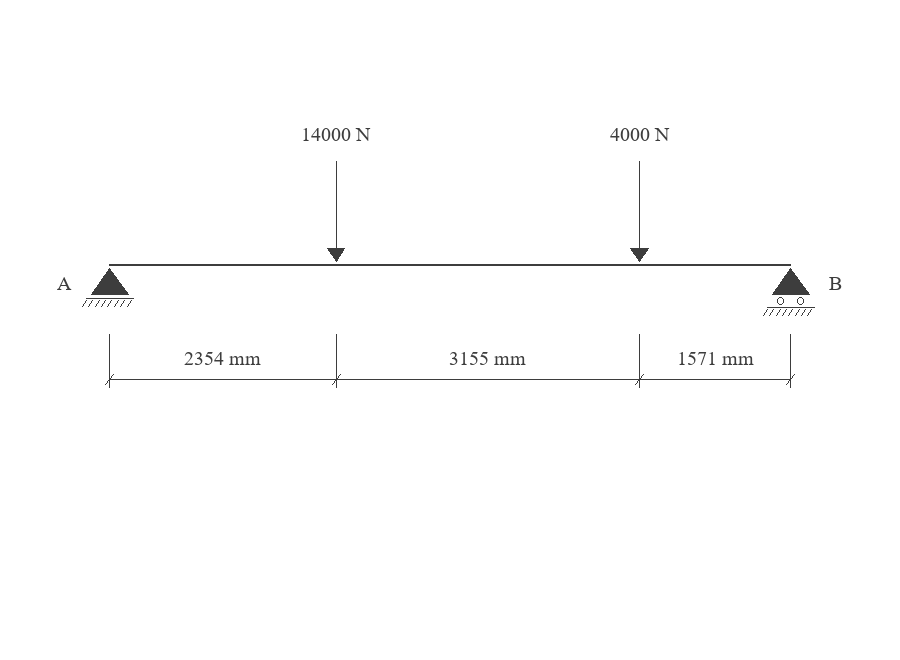pin_support: (82, 268, 134, 307)
point_load: (630, 161, 649, 262), (327, 161, 345, 262)
roller_support: (763, 268, 815, 316)
